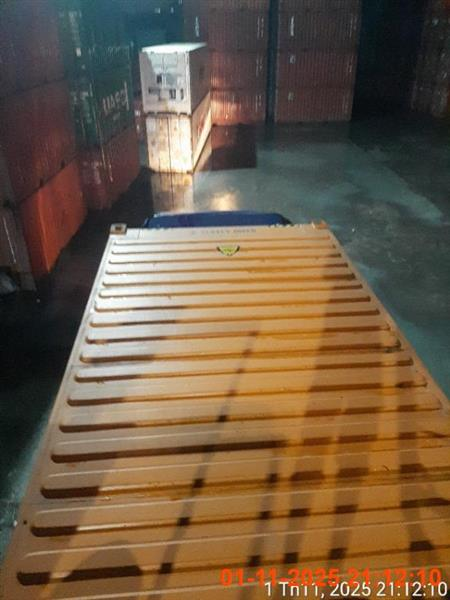broken: (0, 208, 449, 599)
